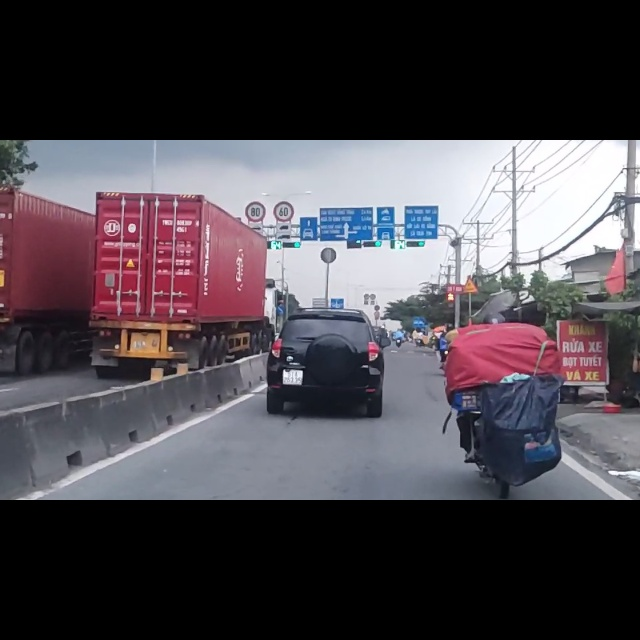bien_hieu_lenh: (273, 108, 295, 147), (246, 109, 266, 146), (462, 242, 479, 273), (277, 294, 284, 308)
